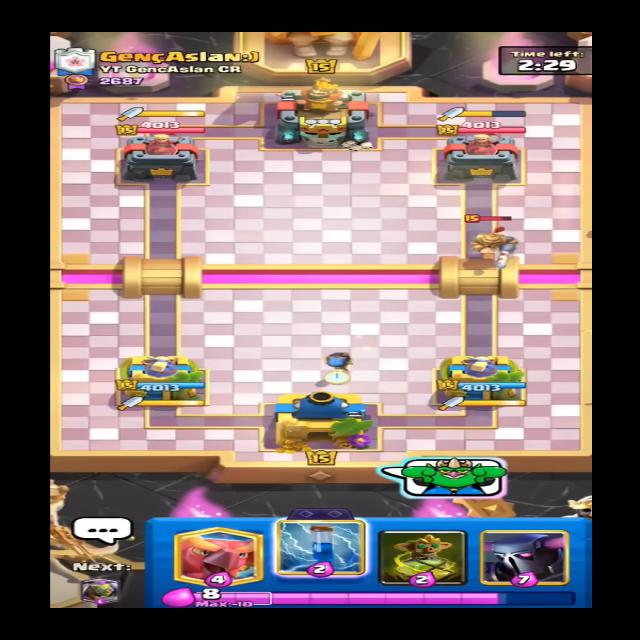prince: (460, 209, 522, 268)
